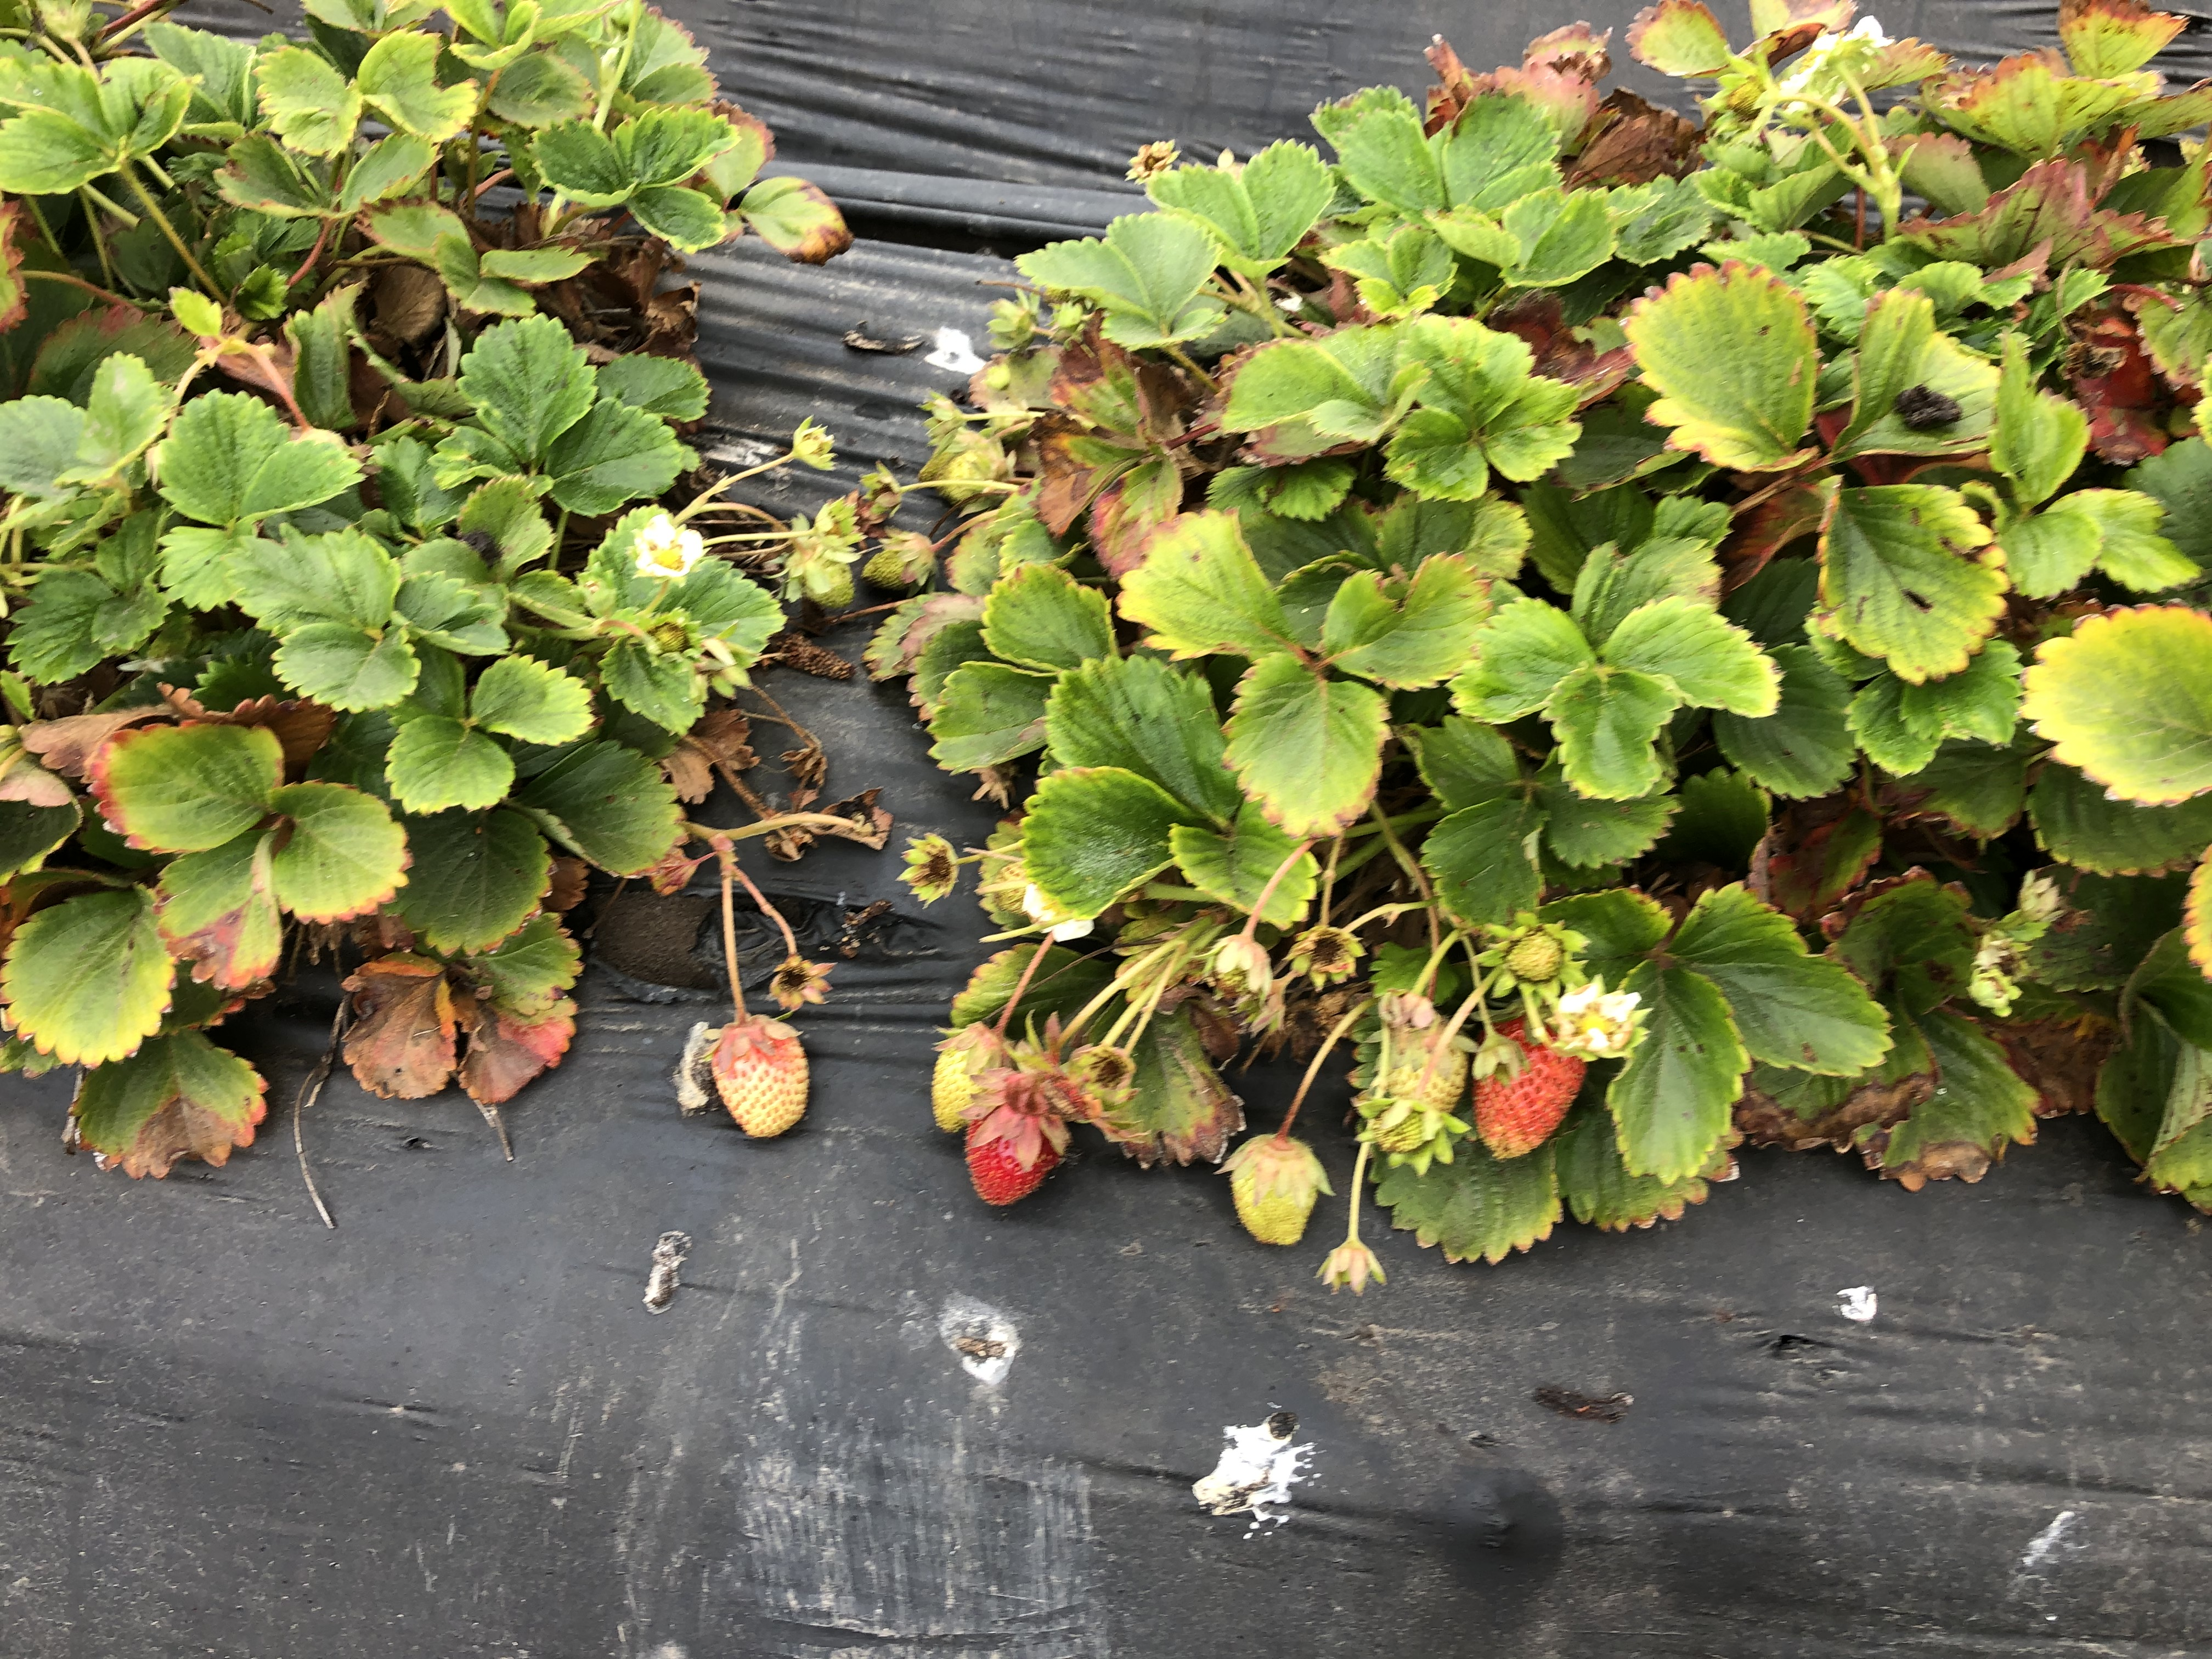ripe_strawberry: (1470, 1014, 1585, 1168), (963, 1072, 1064, 1213)
unripe_strawberry: (705, 1012, 819, 1147), (1369, 1019, 1474, 1159), (1228, 1134, 1331, 1253), (927, 1025, 1015, 1133), (1500, 925, 1566, 985)
